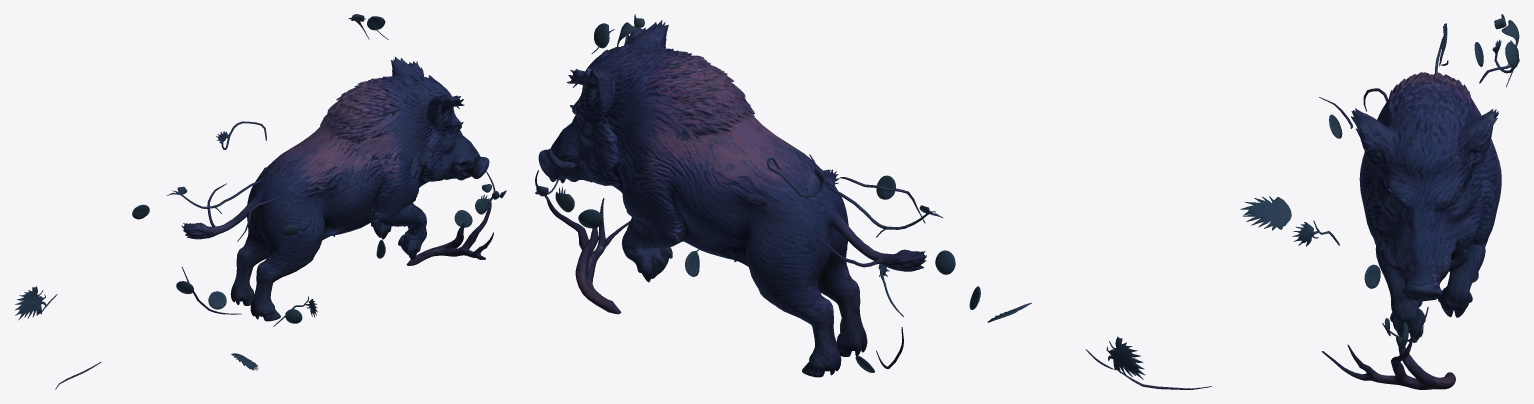
Rendered from boar-m.glb.
The picture shows the model from 3 angles, left to right: view 1: azimuth 30°, elevation 25°; view 2: azimuth 150°, elevation 25°; view 3: azimuth 270°, elevation 25°; orthographic projection. The views are drawn at different scales.
Visible parts, largest first — view 1: boar_body, boar_branches; view 2: boar_body, boar_branches; view 3: boar_body, boar_branches.
Part boxes in pixels (<box>): boar_body: <box>181,57,489,321</box>; boar_branches: <box>14,14,506,389</box>; boar_body: <box>538,20,926,377</box>; boar_branches: <box>535,14,1211,389</box>; boar_body: <box>1351,72,1501,342</box>; boar_branches: <box>1240,14,1519,389</box>.
Bounding box in the file's own units: 3.19 × 1.59 × 1.17.
Materials: 1 (1 with a texture image).
